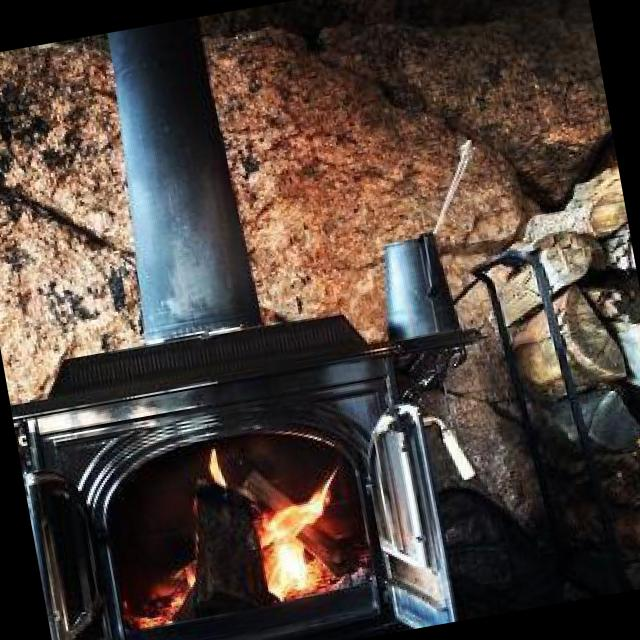Fire: (236, 427, 362, 602), (121, 546, 213, 637)
